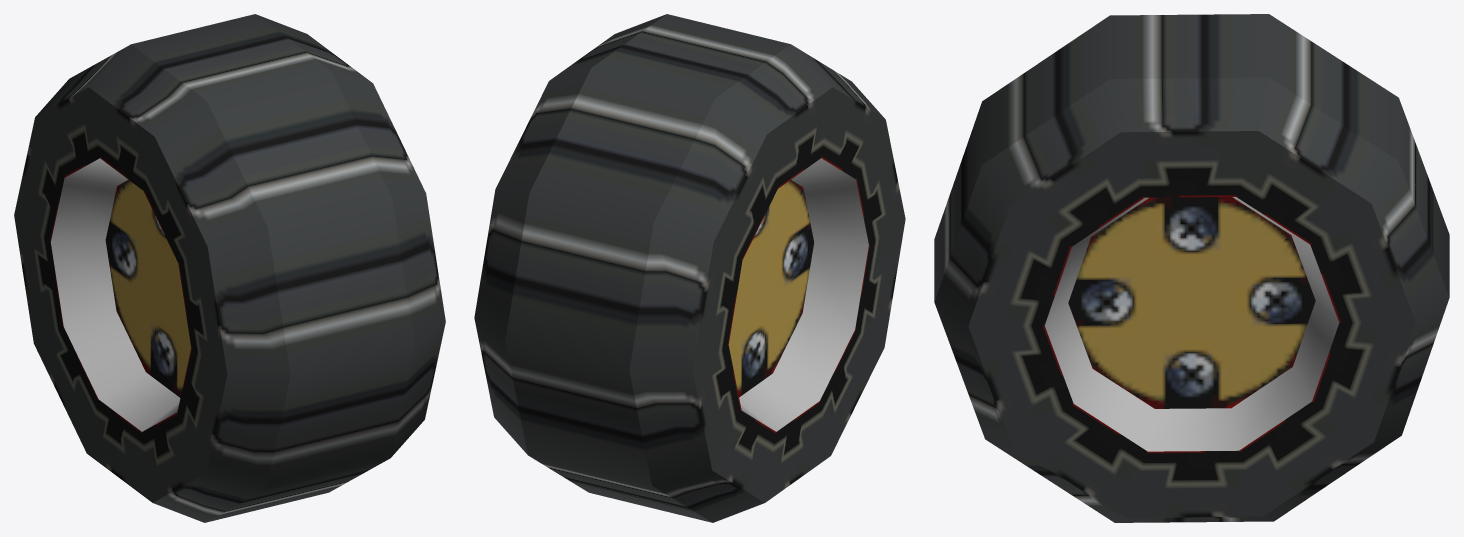
3 renders of one model, left to right at view 1: azimuth 30°, elevation 25°; view 2: azimuth 150°, elevation 25°; view 3: azimuth 270°, elevation 25°, orthographic. The views are drawn at different scales.
Visible parts, largest first — view 1: Joint_0_Object_1, Joint_0_Object_0; view 2: Joint_0_Object_1, Joint_0_Object_0; view 3: Joint_0_Object_1, Joint_0_Object_0.
Boxes of the visible parts, x1,y1,x2,y2 form: Joint_0_Object_1: (14,14,445,522); Joint_0_Object_0: (50,158,180,431); Joint_0_Object_1: (474,14,905,522); Joint_0_Object_0: (739,158,868,431); Joint_0_Object_1: (934,14,1449,522); Joint_0_Object_0: (1044,197,1338,451).
Size of the model in its own units: 36.99 by 68.73 by 72.03.
2 materials, 1 textured.
